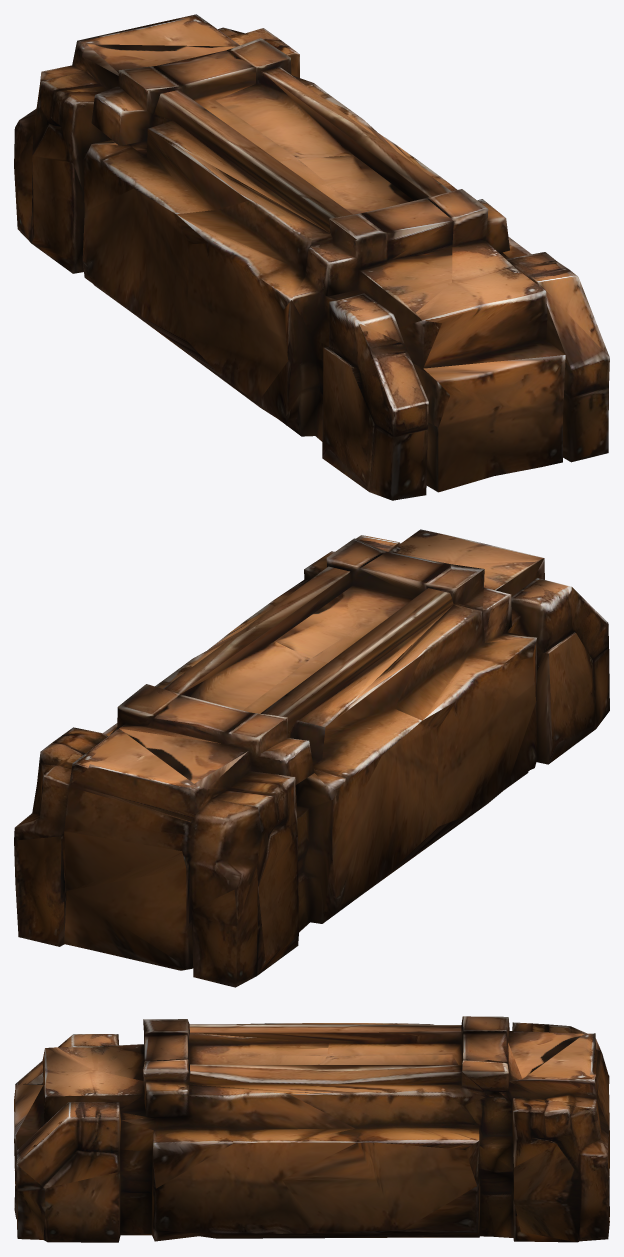
Rendered from rugged_cargo.fbx.
3 renders of one model, top to bottom at view 1: azimuth 30°, elevation 25°; view 2: azimuth 150°, elevation 25°; view 3: azimuth 270°, elevation 25°, orthographic. The views are drawn at different scales.
Visible parts, largest first — view 1: tripo_node_1d482a13-7d22-49c1-959e-433b2d5ec053; view 2: tripo_node_1d482a13-7d22-49c1-959e-433b2d5ec053; view 3: tripo_node_1d482a13-7d22-49c1-959e-433b2d5ec053.
Part boxes in pixels (x1,y1,x2,y2): tripo_node_1d482a13-7d22-49c1-959e-433b2d5ec053: [14, 14, 609, 500]; tripo_node_1d482a13-7d22-49c1-959e-433b2d5ec053: [14, 529, 609, 987]; tripo_node_1d482a13-7d22-49c1-959e-433b2d5ec053: [14, 1016, 609, 1242].
Bounding box in the file's own units: 37.85 × 29.13 × 99.46.
1 material, 1 textured.
